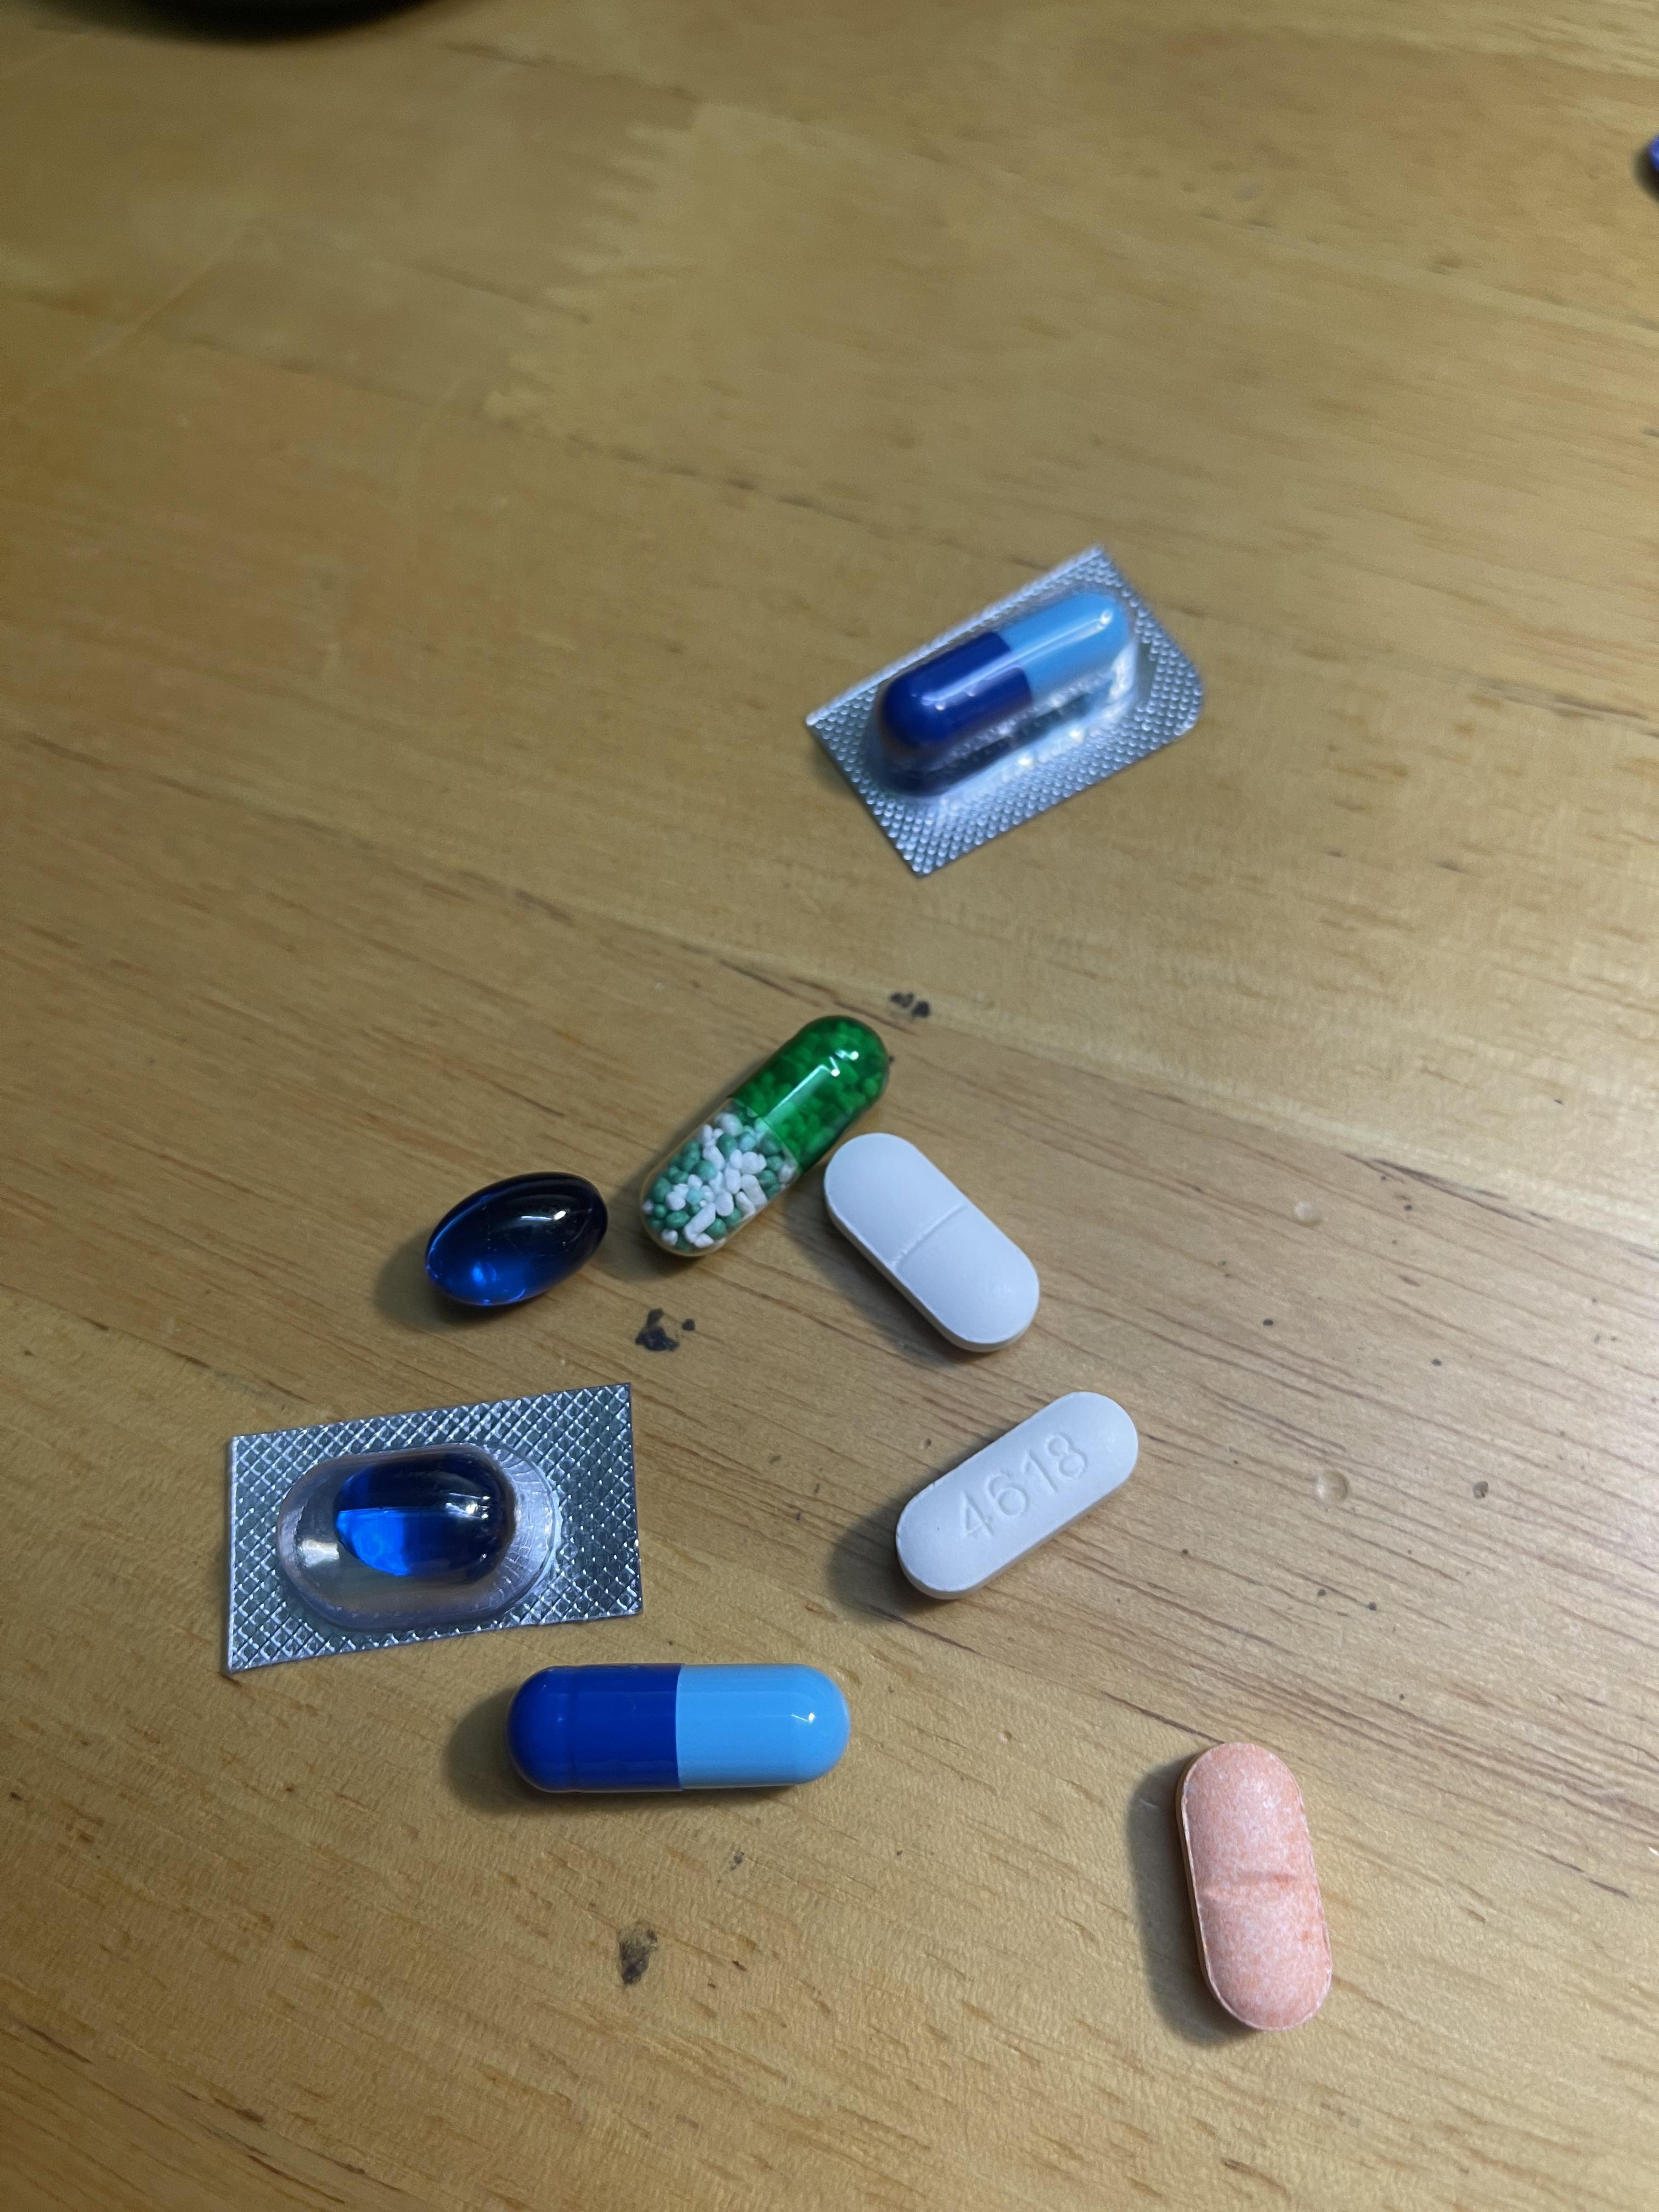Lincomyxin_500mg: (430, 1170, 608, 1306), (333, 1461, 511, 1580)
Loratadine_10mg: (1180, 1740, 1328, 2027)
Paracetamol_350mg: (824, 1134, 1037, 1348)
Paracetamol_500mg: (897, 1392, 1129, 1595)
Paracetamol_650mg: (643, 1019, 885, 1259)
pill: (878, 583, 1136, 782), (509, 1665, 843, 1794)
